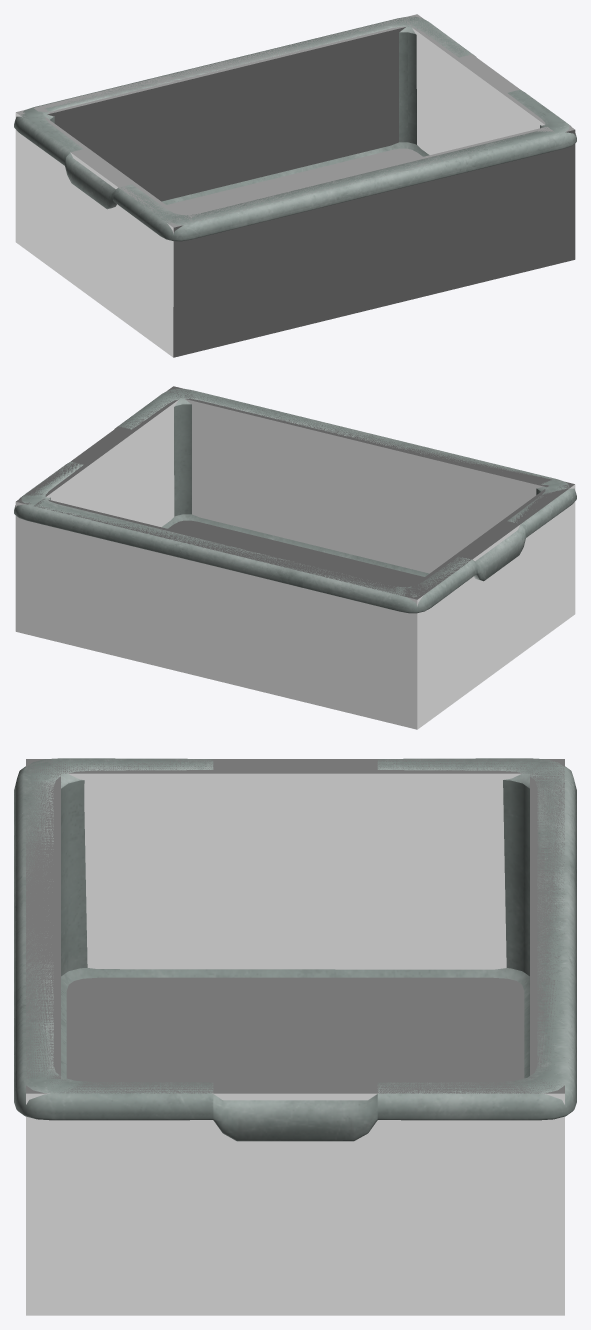
Rendered from SM_BusTub.fbx.
3 views of the same model, one above another, from view 1: azimuth 30°, elevation 25°; view 2: azimuth 150°, elevation 25°; view 3: azimuth 270°, elevation 25° (orthographic). The views are drawn at different scales.
Parts seen in each view (by area): view 1: SM_BusTub_ConvexHulls, SM_BusTub; view 2: SM_BusTub_ConvexHulls, SM_BusTub; view 3: SM_BusTub_ConvexHulls, SM_BusTub.
Boxes of the visible parts, x1,y1,x2,y2 form: SM_BusTub_ConvexHulls: [15, 14, 575, 357]; SM_BusTub: [14, 16, 576, 241]; SM_BusTub_ConvexHulls: [15, 386, 575, 729]; SM_BusTub: [14, 388, 576, 613]; SM_BusTub_ConvexHulls: [26, 759, 564, 1315]; SM_BusTub: [14, 758, 576, 1141].
Size of the model in its own units: 81 by 55.88 by 24.31.
2 materials, 1 textured.
